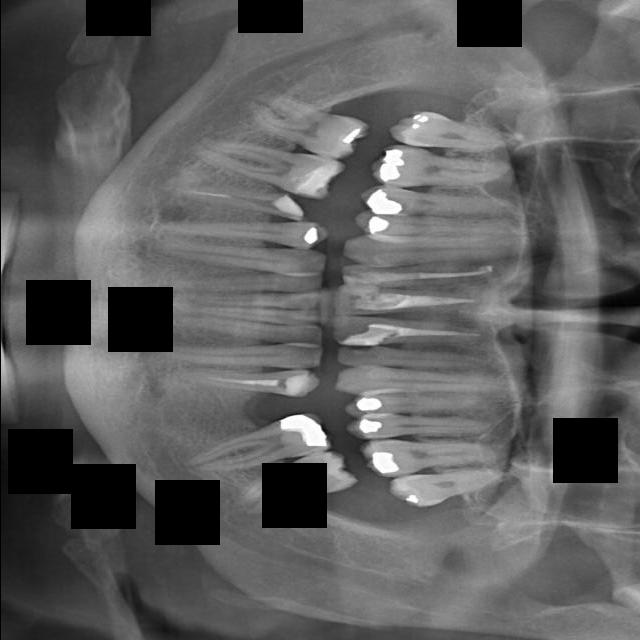AGS Medikal Implant: (330, 344, 504, 370)
AMerOss Implant: (331, 367, 532, 398)
Amalgam filling: (338, 387, 502, 419)
Anthogyr Implant: (341, 412, 497, 441)
Bicon Implant: (356, 431, 515, 480)
BioHorizons Implant: (381, 456, 516, 518)
Blue Sky Bio Implant: (218, 442, 366, 526)
Camlog Implant: (172, 404, 342, 487)
Caries: (385, 105, 518, 158)
Cowellmedi Implant: (172, 369, 323, 399)
Crown: (146, 336, 324, 371)
DENTSPLY Implant: (159, 313, 325, 346)
Dentatus Implant: (165, 305, 322, 326)
Dentis Implant: (188, 291, 321, 314)
Dentium Implant: (174, 272, 325, 293)
Euroteknika Implant: (144, 240, 330, 276)
Filling: (148, 217, 331, 249)
Frontier Implant: (152, 169, 317, 225)
Hiossen Implant: (365, 140, 514, 202)
Implant: (236, 84, 374, 168)
Implant Direct: (186, 127, 348, 207)
MIS Implant: (355, 182, 529, 226)
Mandible: (349, 208, 547, 244)
Maxilla: (339, 232, 546, 262)
Megagen Implant: (337, 262, 507, 287)
Neodent Implant: (332, 283, 503, 315)
Neoss Implant: (328, 316, 493, 348)
